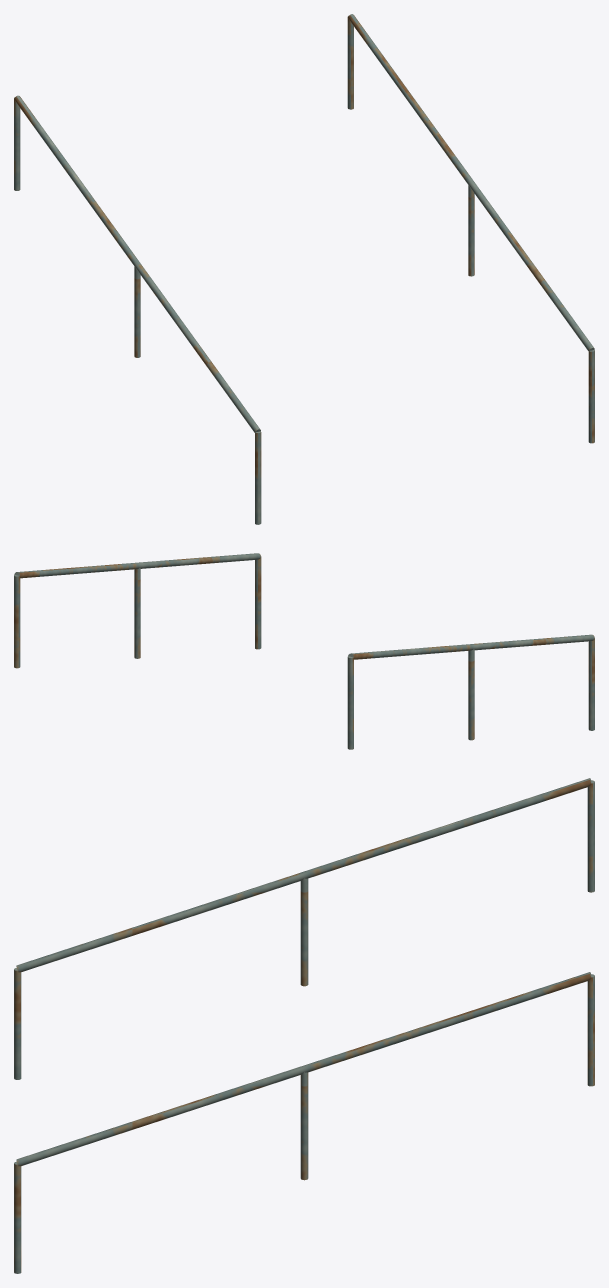
Rendered from Approach_Ramp_Rails.glb.
The picture shows the model from 3 angles, top to bottom: view 1: azimuth 30°, elevation 25°; view 2: azimuth 150°, elevation 25°; view 3: azimuth 270°, elevation 25°; orthographic projection. The views are drawn at different scales.
Visible parts, largest first — view 1: Approach_Ramp_Rails; view 2: Approach_Ramp_Rails; view 3: Approach_Ramp_Rails.
Part boxes in pixels (box(x1,y1,x2,y2)): Approach_Ramp_Rails: box(14, 14, 594, 524); Approach_Ramp_Rails: box(14, 553, 594, 749); Approach_Ramp_Rails: box(14, 778, 594, 1273).
Size of the model in its own units: 4.07 by 2.89 by 5.07.
Materials: 1 (1 with a texture image).
